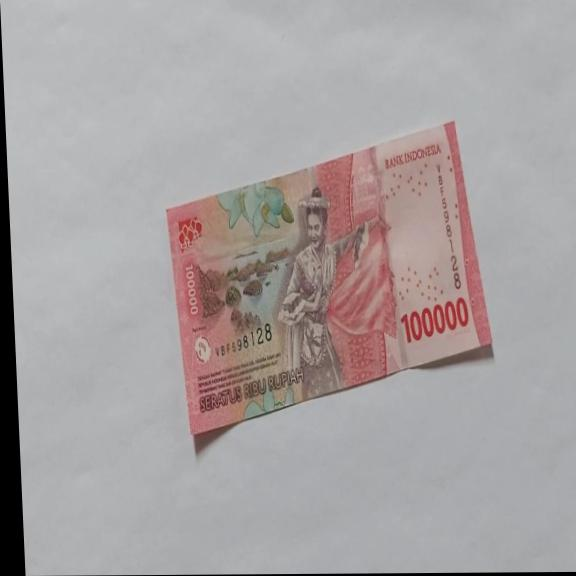Kertas: (161, 119, 497, 436), (398, 295, 470, 344)
